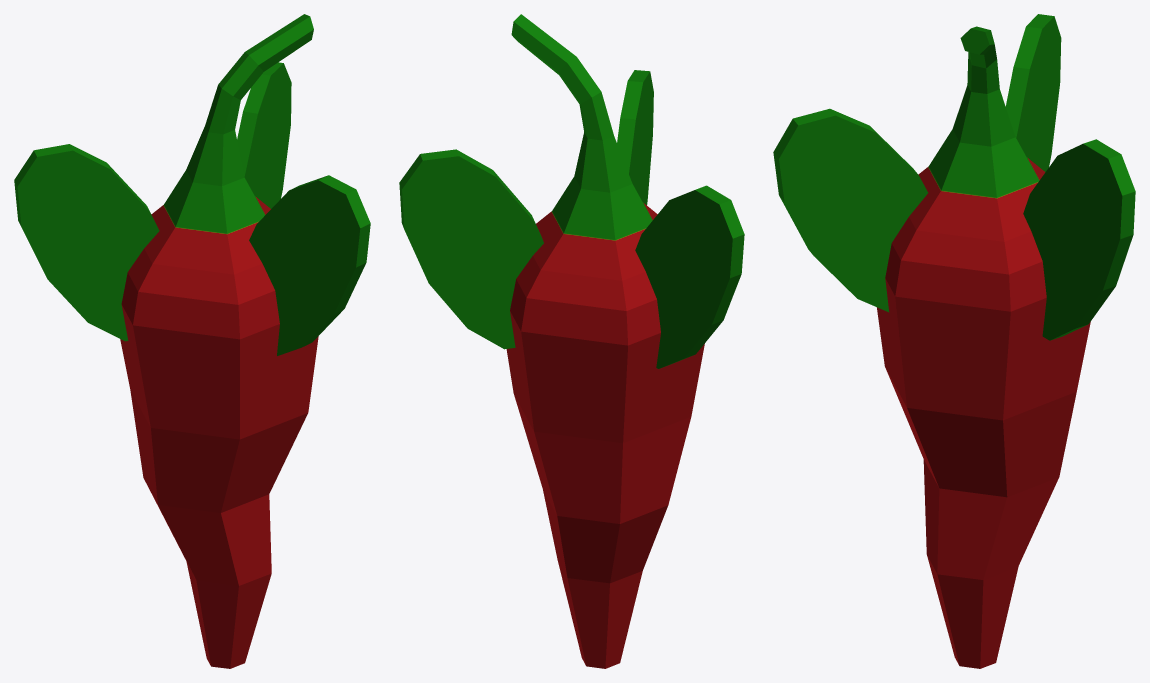
File: Lv2BossBullet.fbx
3 views of the same model, side by side, from view 1: azimuth 30°, elevation 25°; view 2: azimuth 150°, elevation 25°; view 3: azimuth 270°, elevation 25° (orthographic). The views are drawn at different scales.
Parts seen in each view (by area): view 1: Bullet; view 2: Bullet; view 3: Bullet.
Part boxes in pixels (<box>): Bullet: <box>14,14,370,668</box>; Bullet: <box>399,14,744,668</box>; Bullet: <box>773,14,1135,668</box>.
Size of the model in its own units: 96.66 by 187 by 90.79.
Materials: 1 (1 with a texture image).
